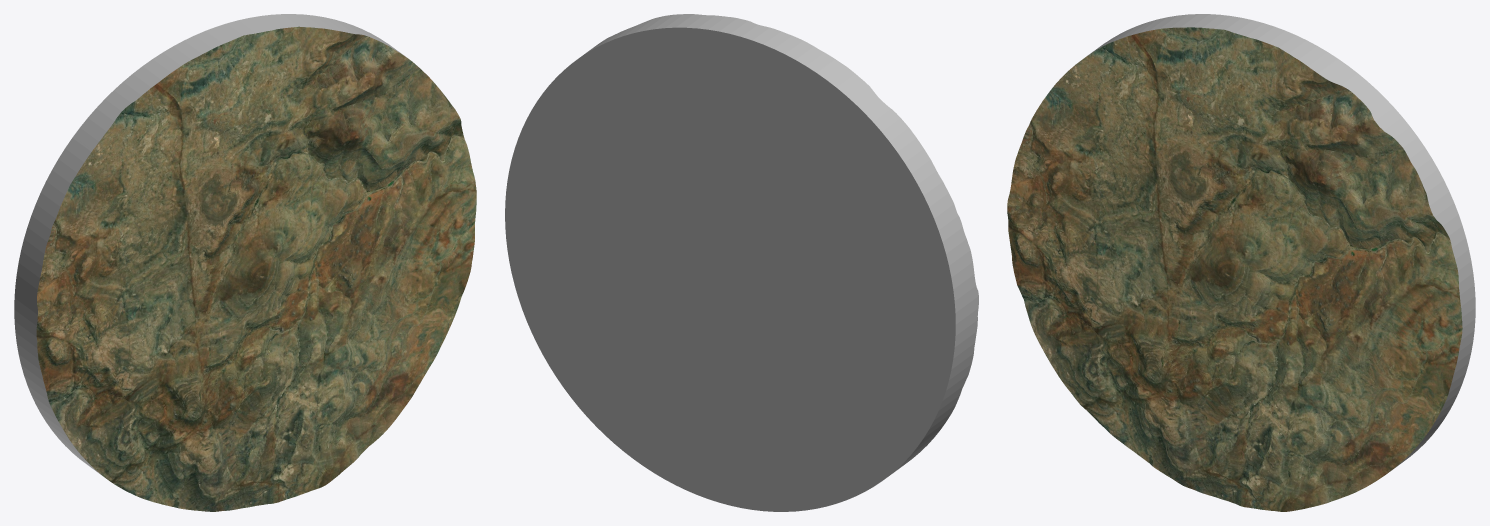
File: worcester_deaar.glb
3 renders of one model, left to right at view 1: azimuth 30°, elevation 25°; view 2: azimuth 150°, elevation 25°; view 3: azimuth 330°, elevation 25°, orthographic.
Bounding box in the file's own units: 200 × 200 × 21.8.
2 materials, 1 textured.
